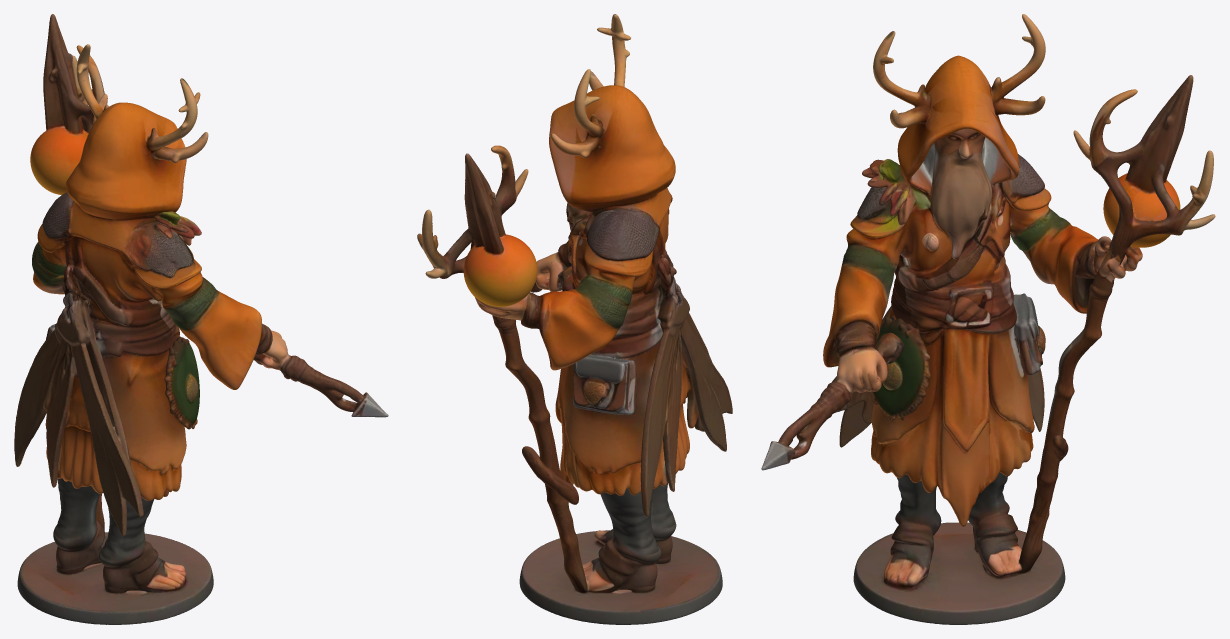
Rendered from mesh.glb.tmp-opt.glb.
3 views of the same model, side by side, from view 1: azimuth 30°, elevation 25°; view 2: azimuth 150°, elevation 25°; view 3: azimuth 270°, elevation 25° (orthographic). The views are drawn at different scales.
Parts seen in each view (by area): view 1: tripo_node_613ca0a9-1258-4d22-8318-2b02f90500bf; view 2: tripo_node_613ca0a9-1258-4d22-8318-2b02f90500bf; view 3: tripo_node_613ca0a9-1258-4d22-8318-2b02f90500bf.
Boxes of the visible parts, bbox=[...] form: tripo_node_613ca0a9-1258-4d22-8318-2b02f90500bf: bbox=[14, 14, 388, 624]; tripo_node_613ca0a9-1258-4d22-8318-2b02f90500bf: bbox=[417, 14, 732, 624]; tripo_node_613ca0a9-1258-4d22-8318-2b02f90500bf: bbox=[761, 14, 1215, 624].
Bounding box in the file's own units: 0.5407 × 1 × 0.7243.
1 material, 1 textured.
